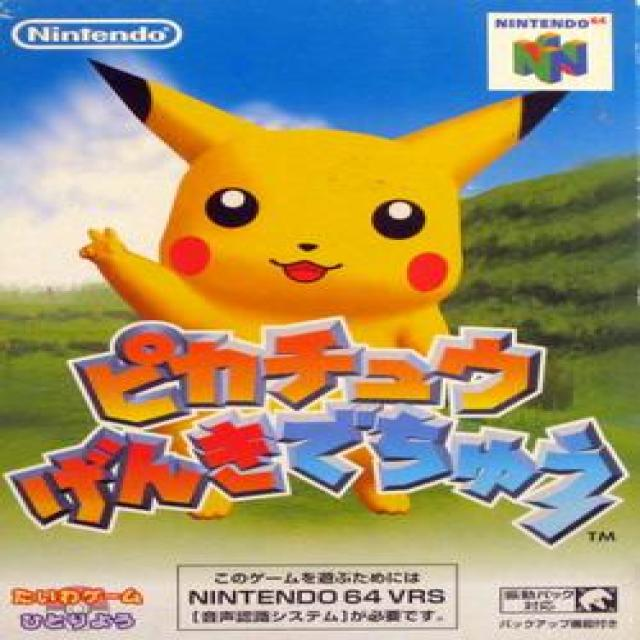pikachu: (82, 60, 572, 363)
